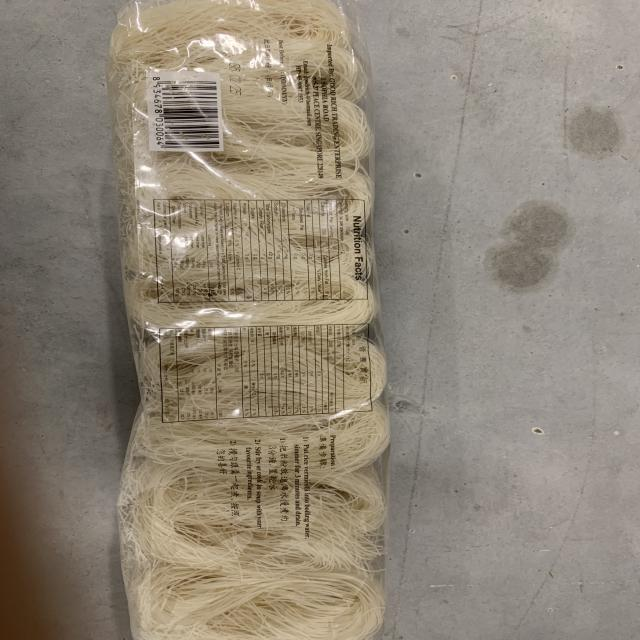object_name: (125, 6, 379, 640)
